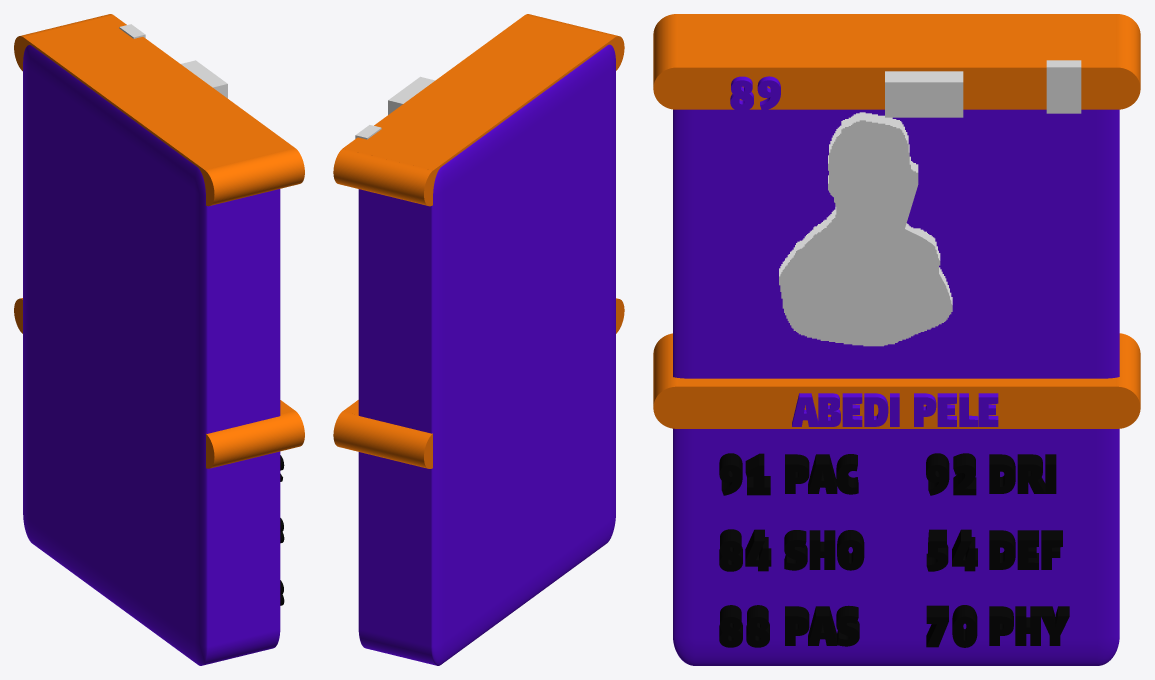
The model's file is ABEDI PELE.fbx.
3 renders of one model, left to right at view 1: azimuth 30°, elevation 25°; view 2: azimuth 150°, elevation 25°; view 3: azimuth 270°, elevation 25°, orthographic. The views are drawn at different scales.
Visible parts, largest first — view 1: Куб, Цилиндр.002, Цилиндр.001, Куб.001; view 2: Куб, Цилиндр.002, Цилиндр.001, Куб.001; view 3: Куб, Цилиндр.002, Плоскость, Цилиндр.001, Текст.006, Куб.001, Текст, Текст.002, Текст.005, Текст.004, Текст.001, Текст.003 (+8 smaller).
Part boxes in pixels (box(x1,y1,x2,y2)): Куб: box(23, 45, 280, 665); Цилиндр.002: box(14, 14, 304, 206); Цилиндр.001: box(14, 298, 304, 468); Куб.001: box(181, 60, 227, 98); Куб: box(358, 44, 615, 665); Цилиндр.002: box(333, 14, 624, 206); Цилиндр.001: box(333, 298, 624, 468); Куб.001: box(388, 76, 435, 114); Куб: box(673, 109, 1119, 665); Цилиндр.002: box(653, 14, 1140, 109); Плоскость: box(779, 112, 952, 346); Цилиндр.001: box(653, 333, 1140, 428); Текст.006: box(792, 393, 998, 426); Куб.001: box(885, 71, 963, 117); Текст: box(784, 530, 864, 570); Текст.002: box(785, 605, 859, 646); Текст.005: box(989, 606, 1069, 645); Текст.004: box(989, 530, 1062, 569); Текст.001: box(785, 454, 858, 494); Текст.003: box(989, 454, 1056, 493).
Bounding box in the file's own units: 280 × 1206 × 872.
